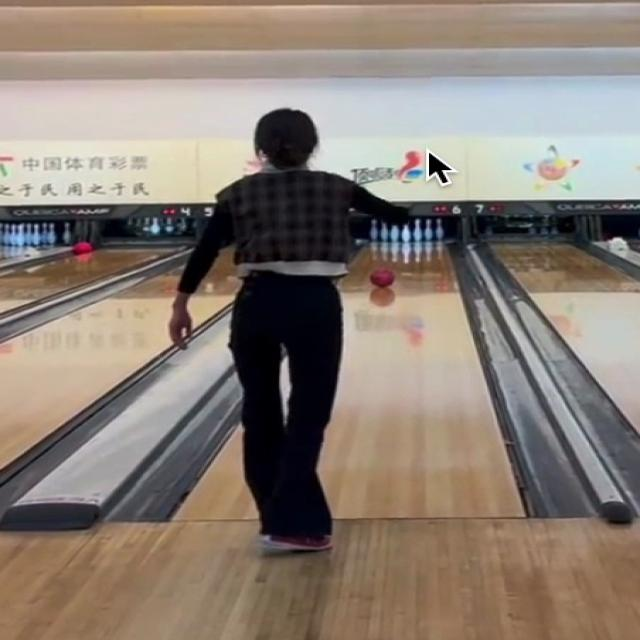alley: (319, 240, 528, 538), (176, 432, 253, 525)
balls: (370, 268, 395, 287)
bottle: (370, 218, 447, 243)
